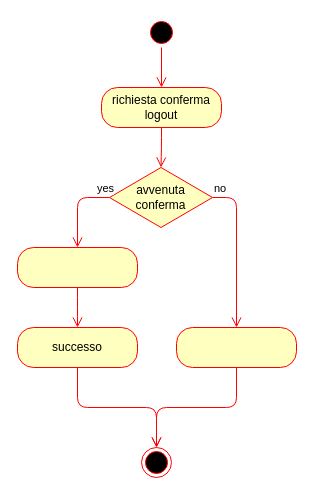
Some shapes in this 314 by 495 pixel diagram are drawn without their labels. Each missing label, with the centre of its shape:
effettua logout: the point at 77,267
idle: the point at 236,347
